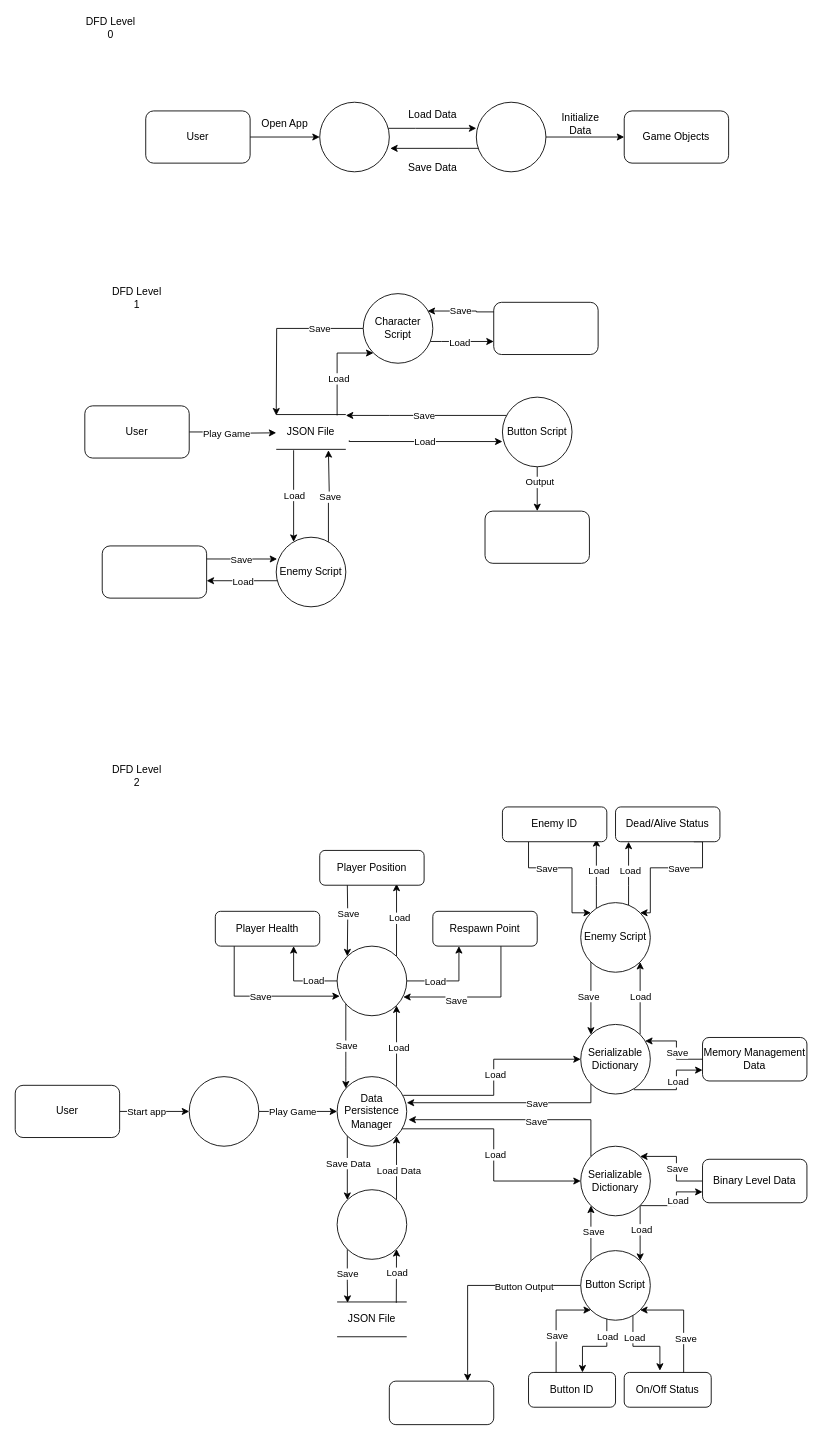
The diagram is 822 pixels wide and 1440 high, and some of its shapes have lost their labels. The shapes that lost their labels are listed below. From the top down, each one's centre as x and y in pixels, then its label:
At pixel 354 136: "Logical Gate".
At pixel 510 136: "Scene/Level".
At pixel 545 328: "Character Data".
At pixel 536 536: "Connected Game Objects".
At pixel 154 571: "Enemy Data".
At pixel 371 980: "Player Script".
At pixel 223 1111: "MainMenu".
At pixel 371 1224: "File Data Handler".
At pixel 441 1402: "Connected GameObjects".
